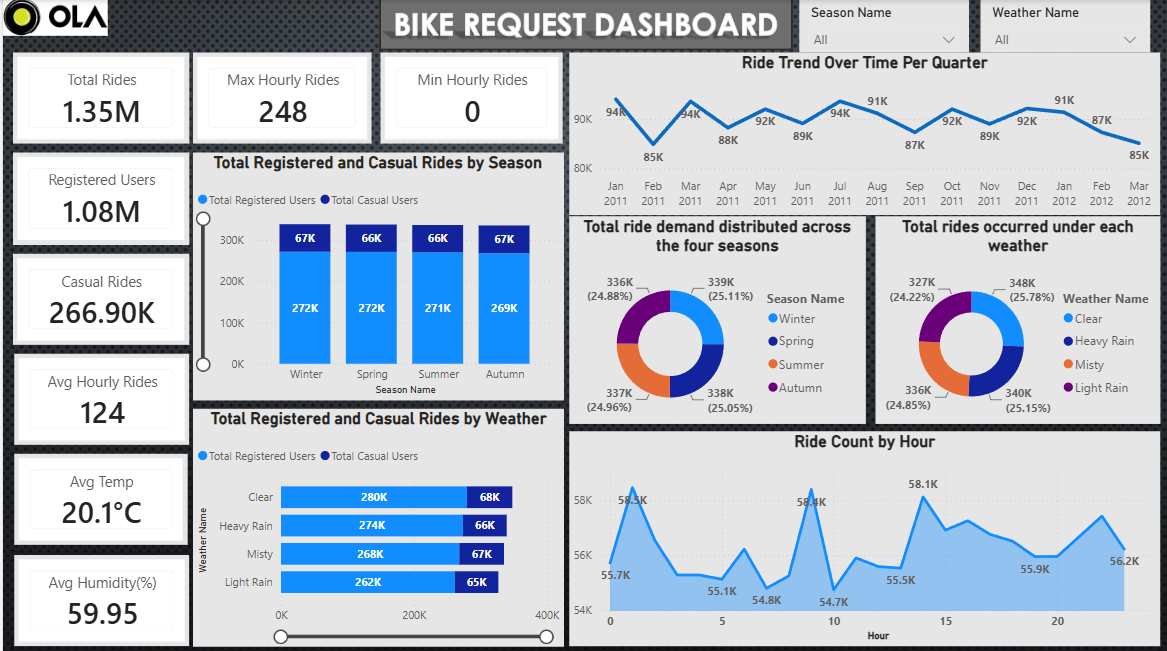

The page's visual inventory and layout, read from the dashboard file:
{"tool":"powerbi","page":{"name":"Executive Dashboard","canvas":[1280,720],"ordinal":0},"visuals":[{"type":"cardVisual","fields":{"Data":["Sum(OLA.Count)"]},"box":[11,57.6,193.5,100.2],"z":0},{"type":"cardVisual","fields":{"Data":["Max(OLA.Count)"]},"box":[208.6,57.6,196.2,100.2],"z":1000},{"type":"cardVisual","fields":{"Data":["OLA.AvgTemp"]},"box":[12.3,498.1,190.7,100.2],"z":2000},{"type":"cardVisual","fields":{"Data":["Min(OLA.Count)"]},"box":[414.4,57.6,200.3,100.2],"z":3000},{"type":"lineChart","title":"Ride Trend Over Time Per Quarter","fields":{"Category":["OLA.Year-Month"],"Y":["Sum(OLA.Count)"]},"box":[621.6,57.6,649.1,178.4],"z":4000},{"type":"cardVisual","fields":{"Data":["Sum(OLA.Registered)"]},"box":[11,167.4,193.5,101.5],"z":5000},{"type":"cardVisual","fields":{"Data":["Sum(OLA.Casual)"]},"box":[11,278.6,193.5,100.2],"z":6000},{"type":"cardVisual","fields":{"Data":["OLA.Avg Hourly Rides"]},"box":[12.3,388.3,192.1,100.2],"z":7000},{"type":"cardVisual","fields":{"Data":["OLA.Average Humidity"]},"box":[12.3,609.3,192.1,100.2],"z":8000},{"type":"columnChart","title":"Total Registered and Casual Rides by Season","fields":{"Category":["OLA.Season Name"],"Y":["Sum(OLA.Registered)","Sum(OLA.Casual)"]},"box":[208.6,167.4,406.2,271.7],"z":9000},{"type":"donutChart","title":"Total rides occurred under each weather","fields":{"Category":["OLA.Weather Name"],"Y":["Sum(OLA.Count)"]},"box":[957.8,237.4,312.9,227.8],"z":10000},{"type":"donutChart","title":"Total ride demand distributed across the four seasons","fields":{"Category":["OLA.Season Name"],"Y":["Sum(OLA.Count)"]},"box":[621.6,237.4,325.2,227.8],"z":11000},{"type":"areaChart","title":"Ride Count by Hour","fields":{"Category":["OLA.Hour"],"Y":["Sum(OLA.Count)"]},"box":[621.6,473.4,649.1,236],"z":12000},{"type":"barChart","title":"Total Registered and Casual Rides by Weather","fields":{"Category":["OLA.Weather Name"],"Y":["Sum(OLA.Registered)","Sum(OLA.Casual)"]},"box":[208.6,448.7,407.5,260.7],"z":12001},{"type":"slicer","fields":{"Values":["OLA.Season Name"]},"box":[874.1,0,186.6,57.6],"z":12002},{"type":"slicer","fields":{"Values":["OLA.Weather Name"]},"box":[1073.1,0,186.6,57.6],"z":12003}]}

Visuals, with their boxes in screenshot pixels (x1, y1, x2, y2), scaled from the page's 1280x720 canvas onto the 1167x651 screenshot:
cardVisual - Sum(OLA.Count): <box>10,52,186,143</box>
cardVisual - Max(OLA.Count): <box>190,52,369,143</box>
cardVisual - OLA.AvgTemp: <box>11,450,185,541</box>
cardVisual - Min(OLA.Count): <box>378,52,560,143</box>
"Ride Trend Over Time Per Quarter" lineChart: <box>567,52,1159,213</box>
cardVisual - Sum(OLA.Registered): <box>10,151,186,243</box>
cardVisual - Sum(OLA.Casual): <box>10,252,186,342</box>
cardVisual - OLA.Avg Hourly Rides: <box>11,351,186,442</box>
cardVisual - OLA.Average Humidity: <box>11,551,186,642</box>
"Total Registered and Casual Rides by Season" columnChart: <box>190,151,561,397</box>
"Total rides occurred under each weather" donutChart: <box>873,215,1159,421</box>
"Total ride demand distributed across the four seasons" donutChart: <box>567,215,863,421</box>
"Ride Count by Hour" areaChart: <box>567,428,1159,641</box>
"Total Registered and Casual Rides by Weather" barChart: <box>190,406,562,641</box>
slicer - OLA.Season Name: <box>797,0,967,52</box>
slicer - OLA.Weather Name: <box>978,0,1148,52</box>
